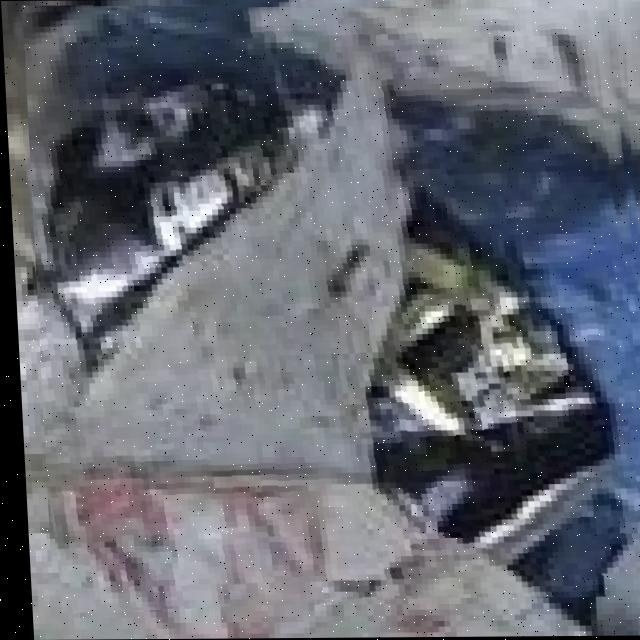can: (31, 5, 640, 598)
